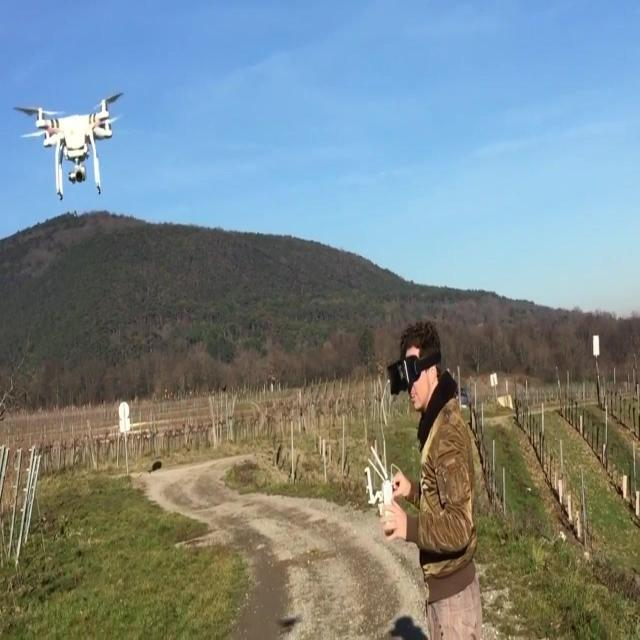drone: (11, 87, 126, 203)
